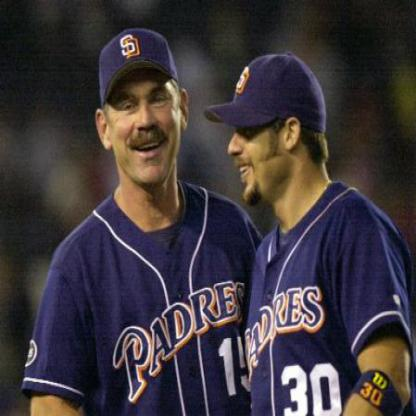face: (105, 31, 181, 189), (226, 62, 288, 212)
